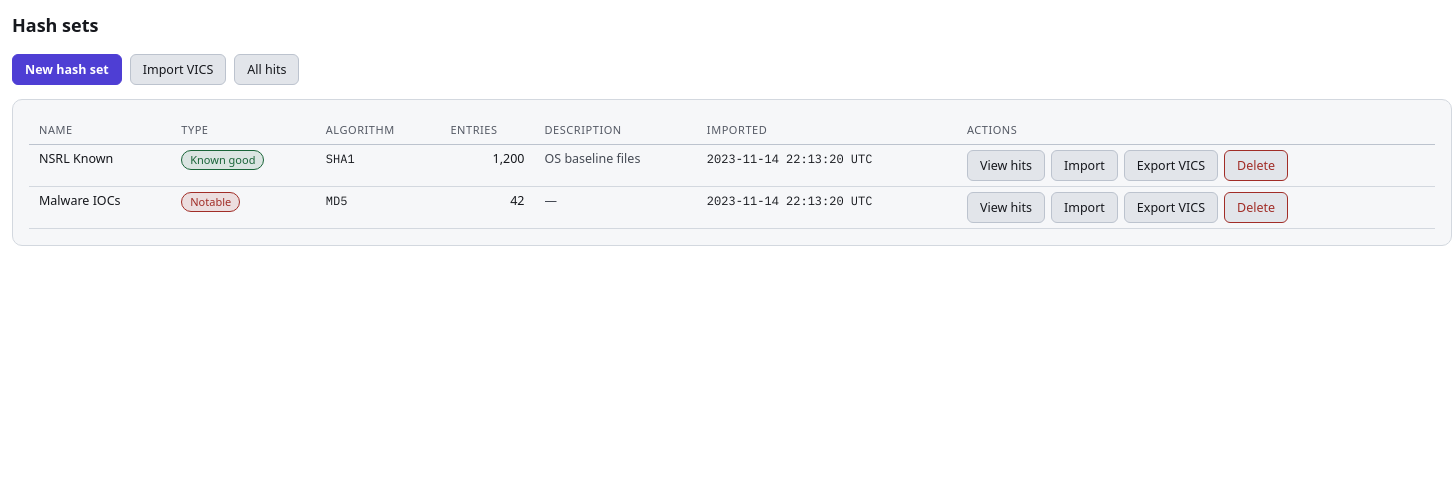
Scenario: HashSetsPage › shows the hits empty state
This screenshot has width=1452, height=499.
expect the text "NSRL Known" is shown: met, box [29,144,171,186]
Click the button "View hits" in the row of "NSRL Known".
click(1006, 166)  # box [967,150,1045,181]
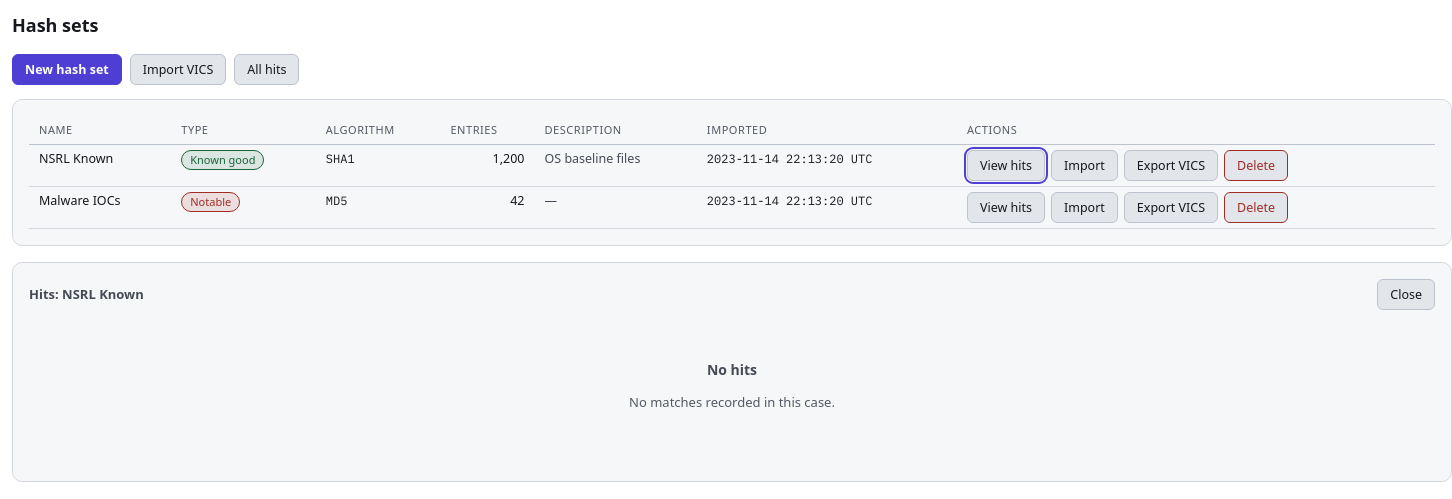
expect the text "No matches recorded in this case." is shown: met, box [629,393,835,411]
